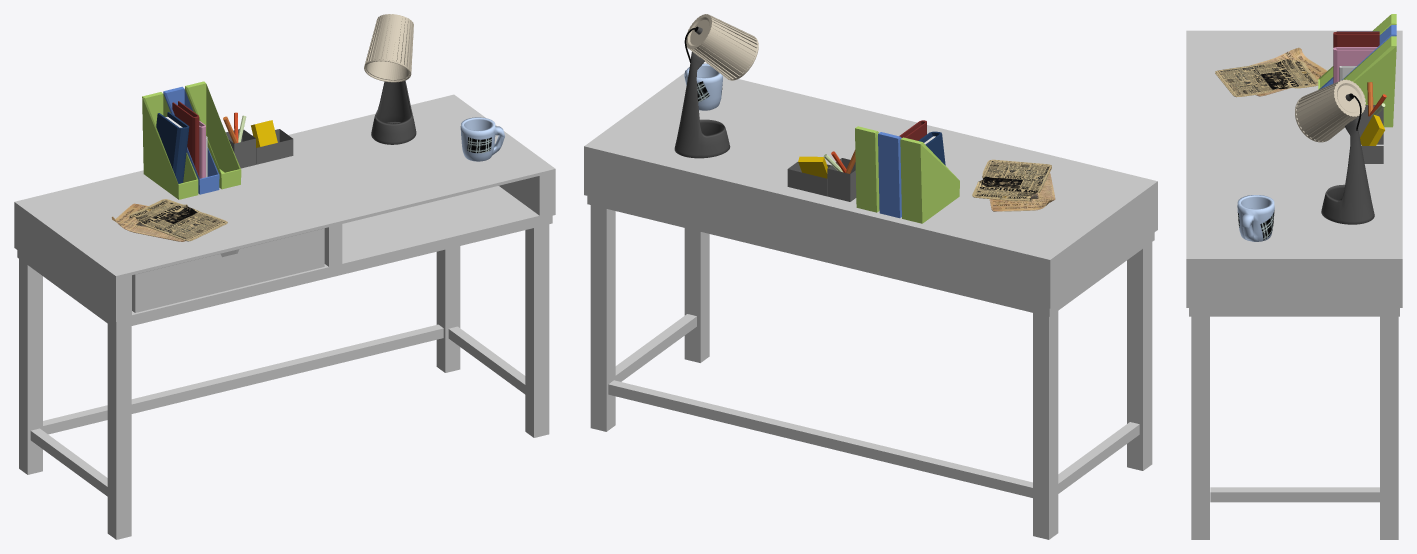
Rendered from desk.glb.
3 views of the same model, side by side, from view 1: azimuth 30°, elevation 25°; view 2: azimuth 150°, elevation 25°; view 3: azimuth 270°, elevation 25° (orthographic). The views are drawn at different scales.
Visible parts, largest first — view 1: Plane.001, Plane.000, Cylinder, Plane.007, Plane.009, Plane.006, Cylinder.004, Cube.005, Cube, Plane.008, Cube.001, Plane; view 2: Plane.001, Cylinder, Plane.007, Plane.006, Plane.009, Plane.008, Cube.005, Cylinder.004, Plane; view 3: Plane.001, Cylinder, Plane.006, Plane.009, Cylinder.004, Cube.002, Cube.001, Cube.005, Plane, Cube.007, Plane.007, Plane.008.
Boxes of the visible parts, x1=… form: Plane.001: x1=14, y1=94, x2=555, y2=539; Plane.000: x1=132, y1=228, x2=324, y2=312; Cylinder: x1=364, y1=14, x2=416, y2=144; Plane.007: x1=142, y1=92, x2=198, y2=199; Plane.009: x1=185, y1=81, x2=241, y2=189; Plane.006: x1=129, y1=199, x2=227, y2=241; Cylinder.004: x1=460, y1=117, x2=504, y2=161; Cube.005: x1=225, y1=129, x2=293, y2=168; Cube: x1=156, y1=112, x2=189, y2=183; Plane.008: x1=163, y1=86, x2=219, y2=194; Cube.001: x1=172, y1=101, x2=199, y2=177; Plane: x1=111, y1=203, x2=185, y2=241; Plane.001: x1=584, y1=73, x2=1157, y2=539; Cylinder: x1=674, y1=14, x2=758, y2=158; Plane.007: x1=900, y1=137, x2=959, y2=223; Plane.006: x1=972, y1=159, x2=1051, y2=202; Plane.009: x1=855, y1=126, x2=879, y2=212; Plane.008: x1=878, y1=132, x2=901, y2=218; Cube.005: x1=787, y1=158, x2=856, y2=201; Cylinder.004: x1=684, y1=63, x2=722, y2=110; Plane: x1=989, y1=173, x2=1055, y2=211; Plane.001: x1=1186, y1=30, x2=1402, y2=539; Cylinder: x1=1295, y1=79, x2=1374, y2=224; Plane.006: x1=1215, y1=59, x2=1318, y2=97; Plane.009: x1=1343, y1=36, x2=1396, y2=127; Cylinder.004: x1=1237, y1=195, x2=1274, y2=241; Cube.002: x1=1333, y1=47, x2=1377, y2=83; Cube.001: x1=1333, y1=31, x2=1379, y2=47; Cube.005: x1=1356, y1=105, x2=1383, y2=163; Plane: x1=1250, y1=47, x2=1327, y2=96; Cube.007: x1=1360, y1=114, x2=1384, y2=145; Plane.007: x1=1318, y1=14, x2=1396, y2=89; Plane.008: x1=1319, y1=25, x2=1396, y2=89.
Size of the model in its own units: 5 by 4.24 by 2.
19 materials, 3 textured.
